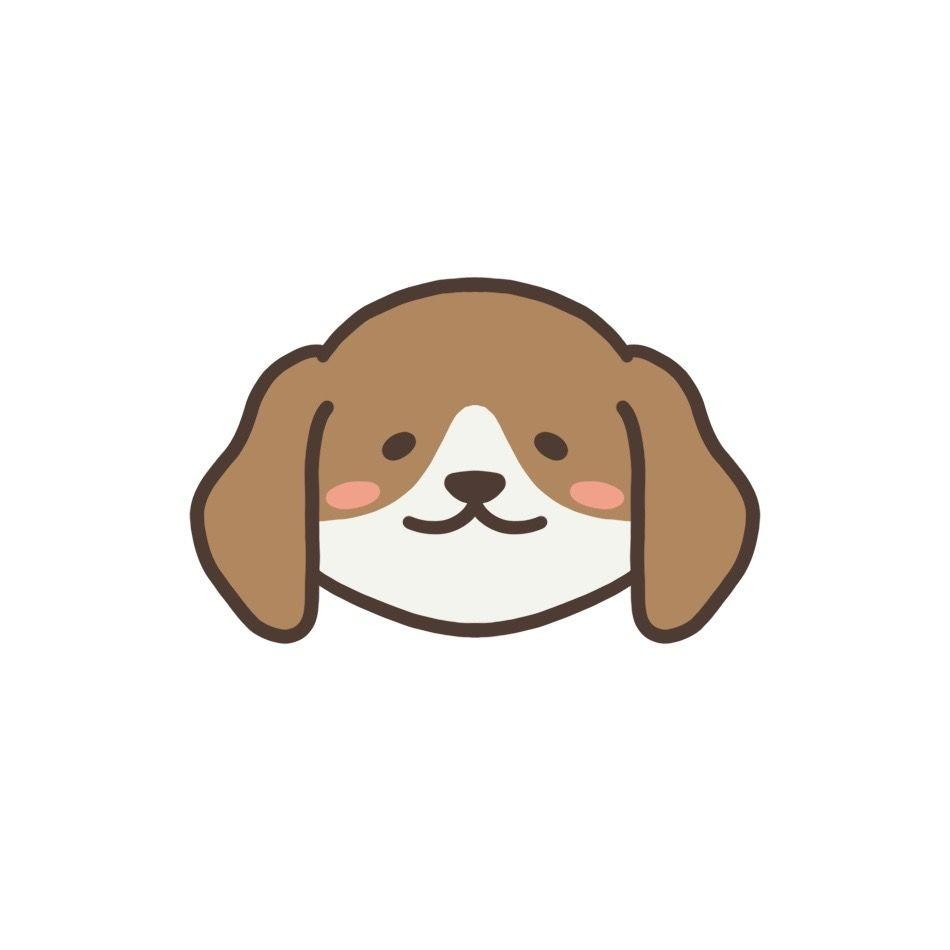non-dog: (186, 274, 764, 648)
